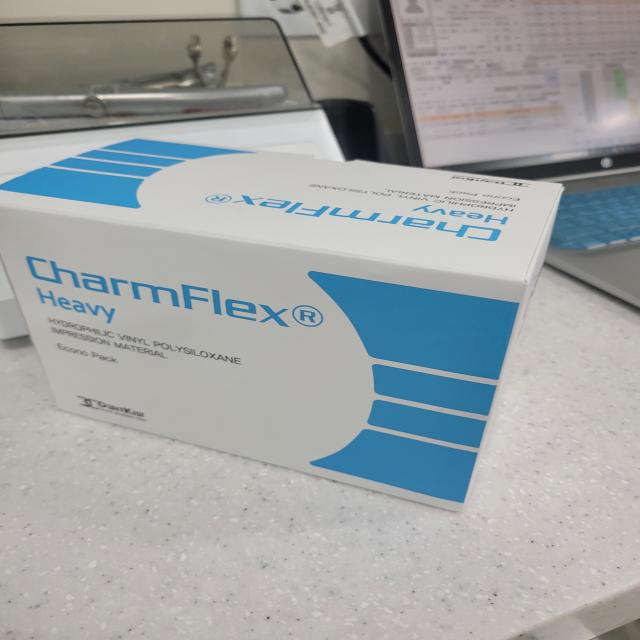impression: (0, 118, 584, 530)
